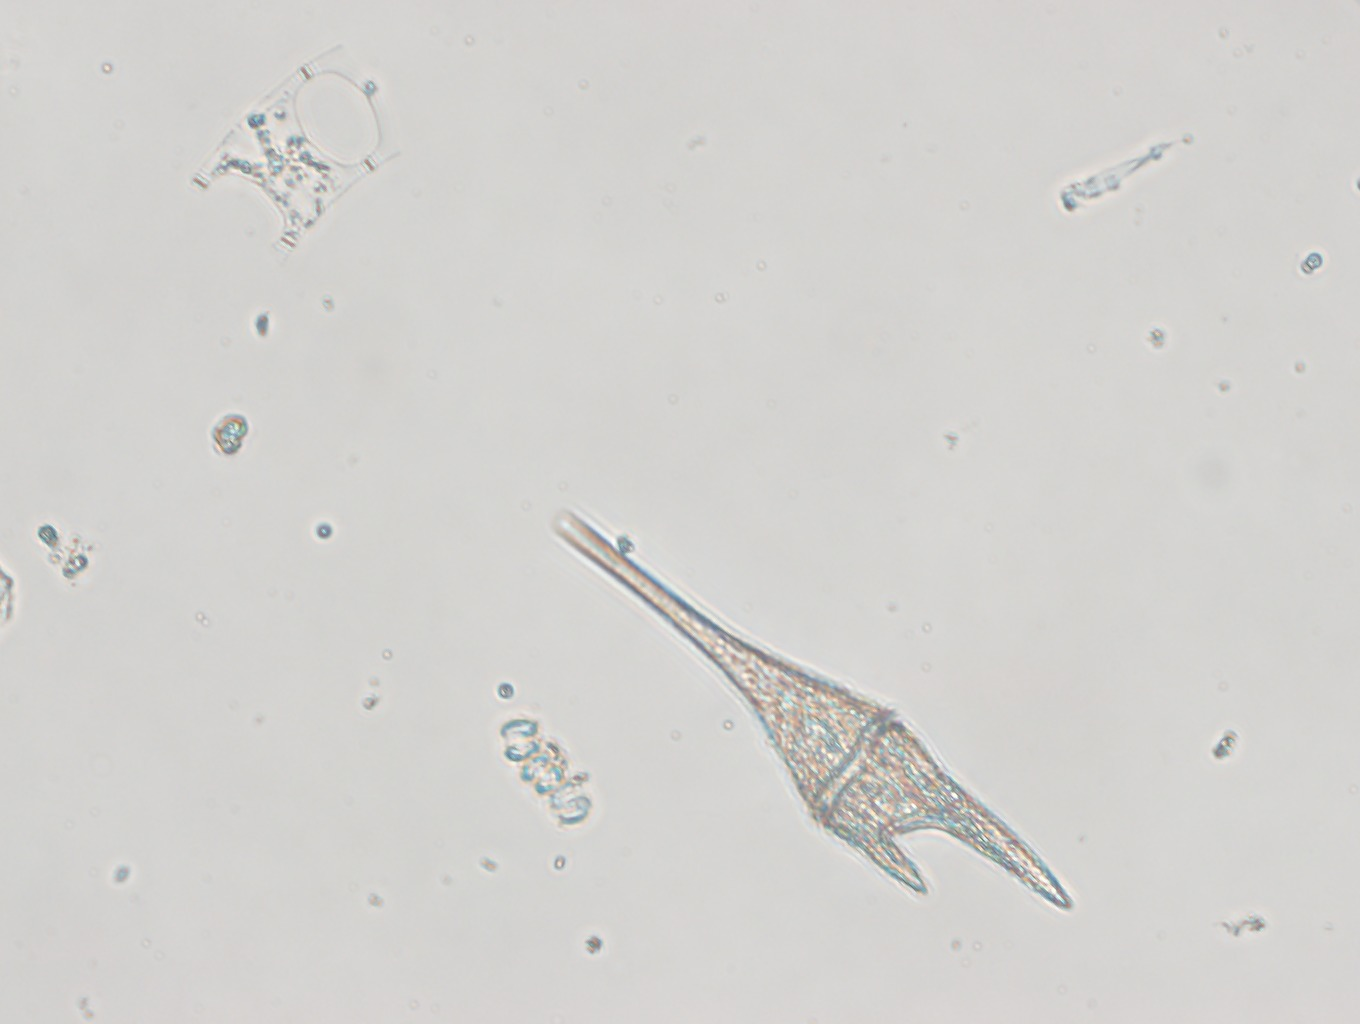ceratium furca: (549, 499, 1079, 918)
eucampia: (191, 45, 419, 270)
skeletonema: (495, 712, 596, 825)
